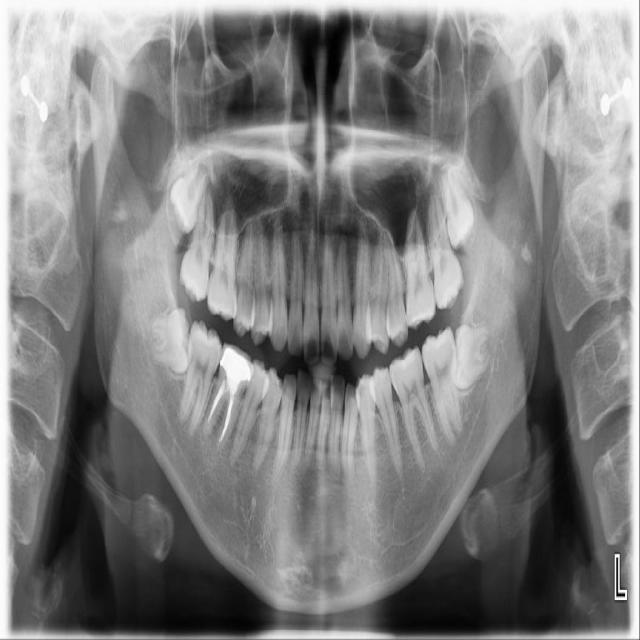Crown: (219, 343, 254, 393)
Root Canal Treatment: (216, 392, 236, 446), (206, 382, 228, 424)
impacted tooth: (452, 319, 503, 392), (165, 150, 203, 236), (438, 157, 474, 247), (141, 309, 189, 374)
